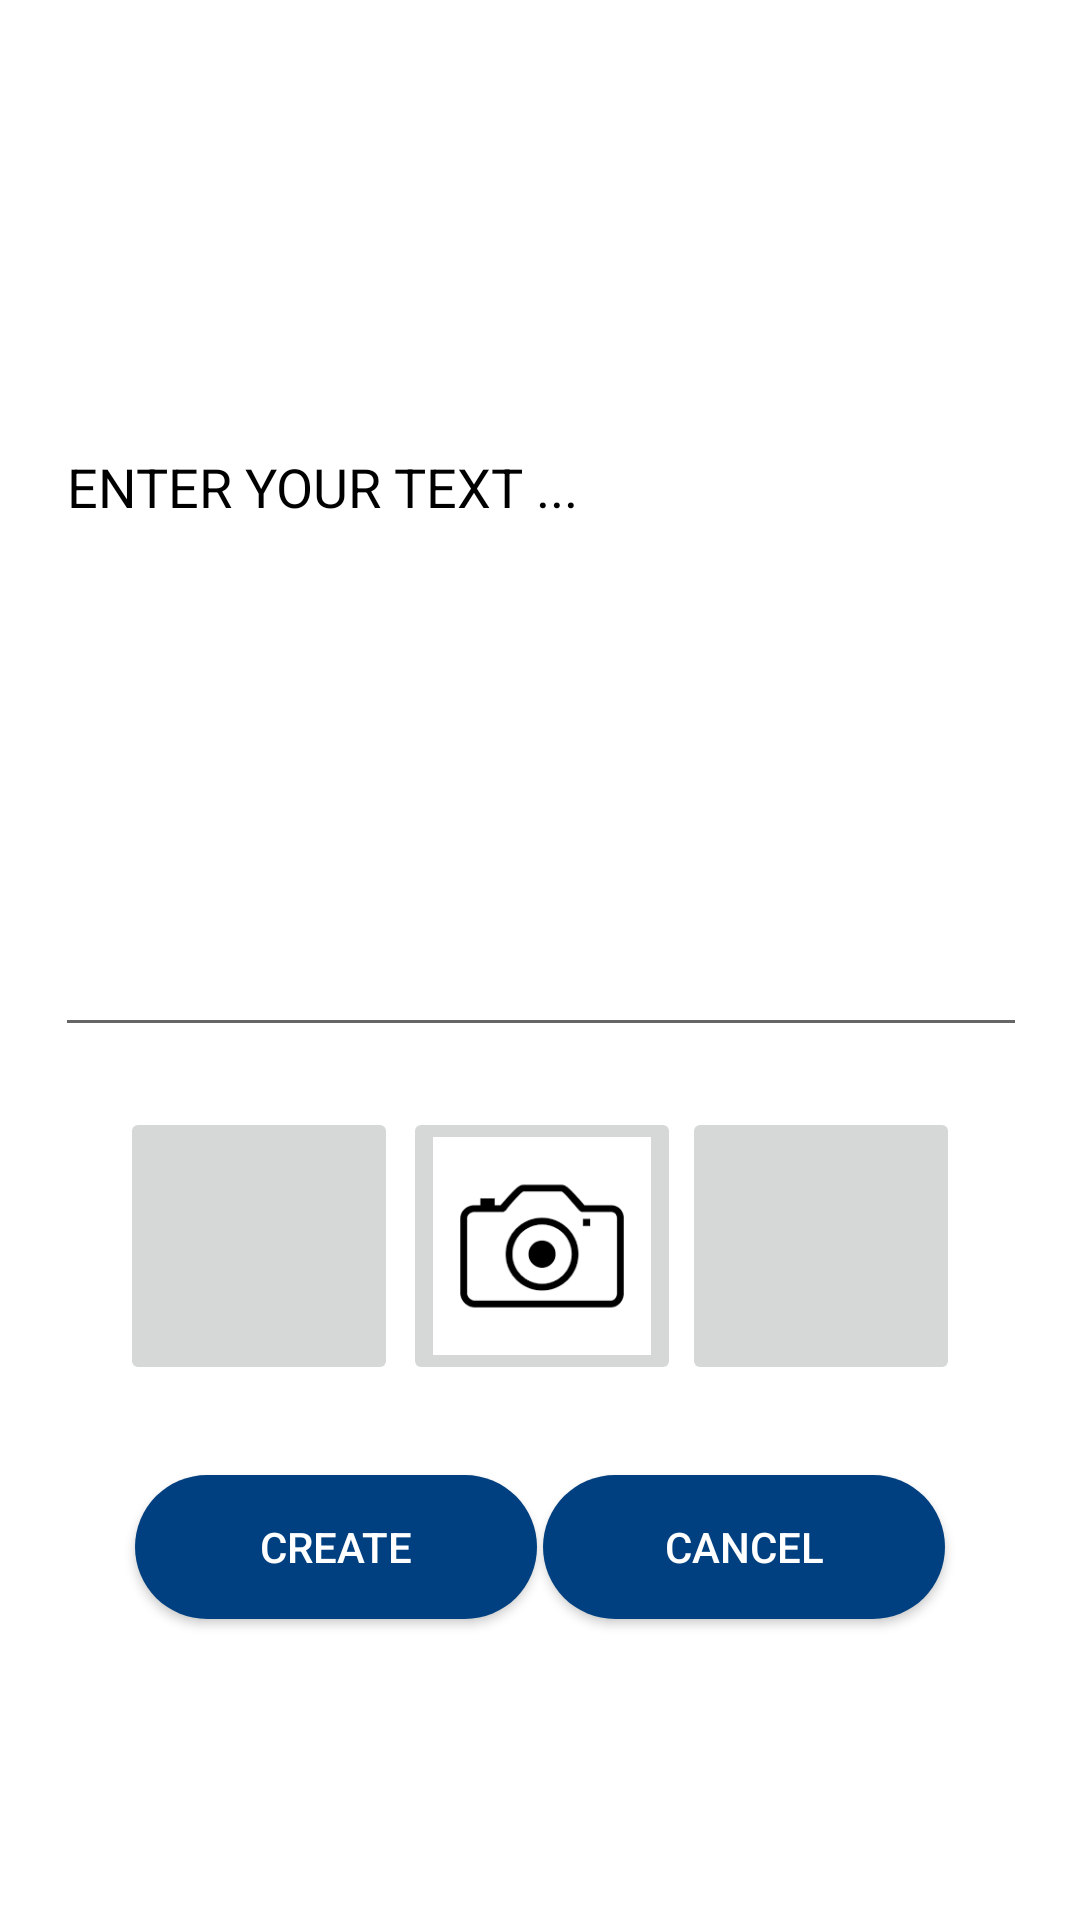

Named icons in this screenshot (1080px×1920px) and their bounding boxes, [x1=x1, y1=y1, x2=x2, y2=y2]:
camera: [x1=415, y1=1125, x2=669, y2=1367]
